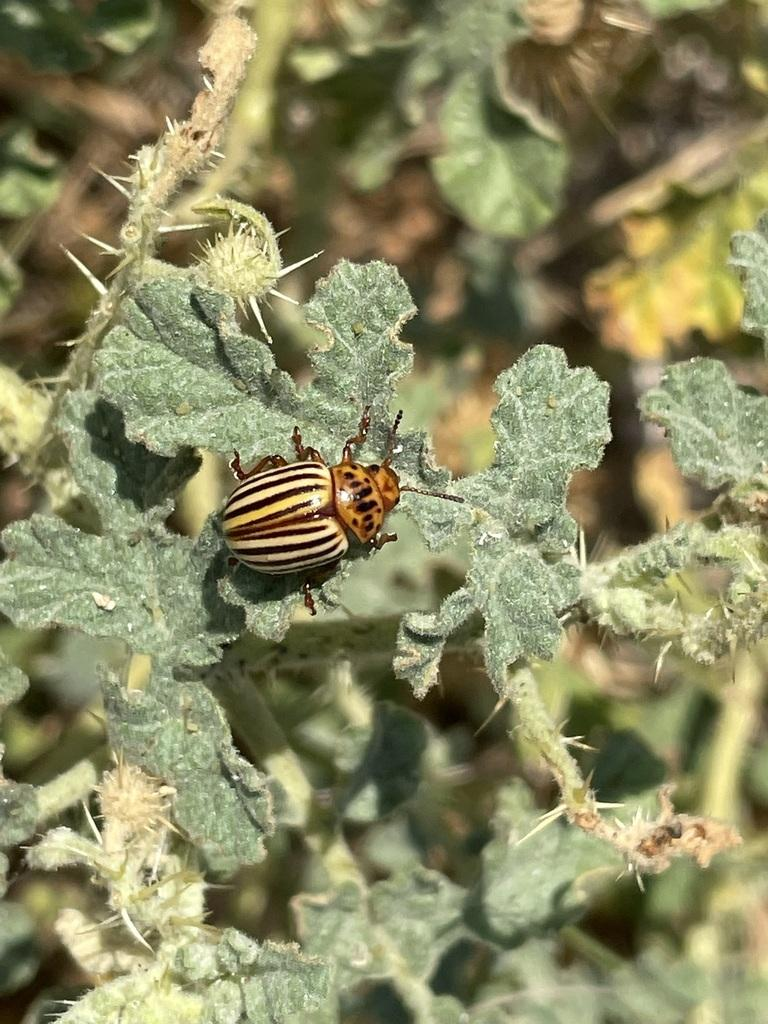potato_beetle: (186, 384, 473, 630)
